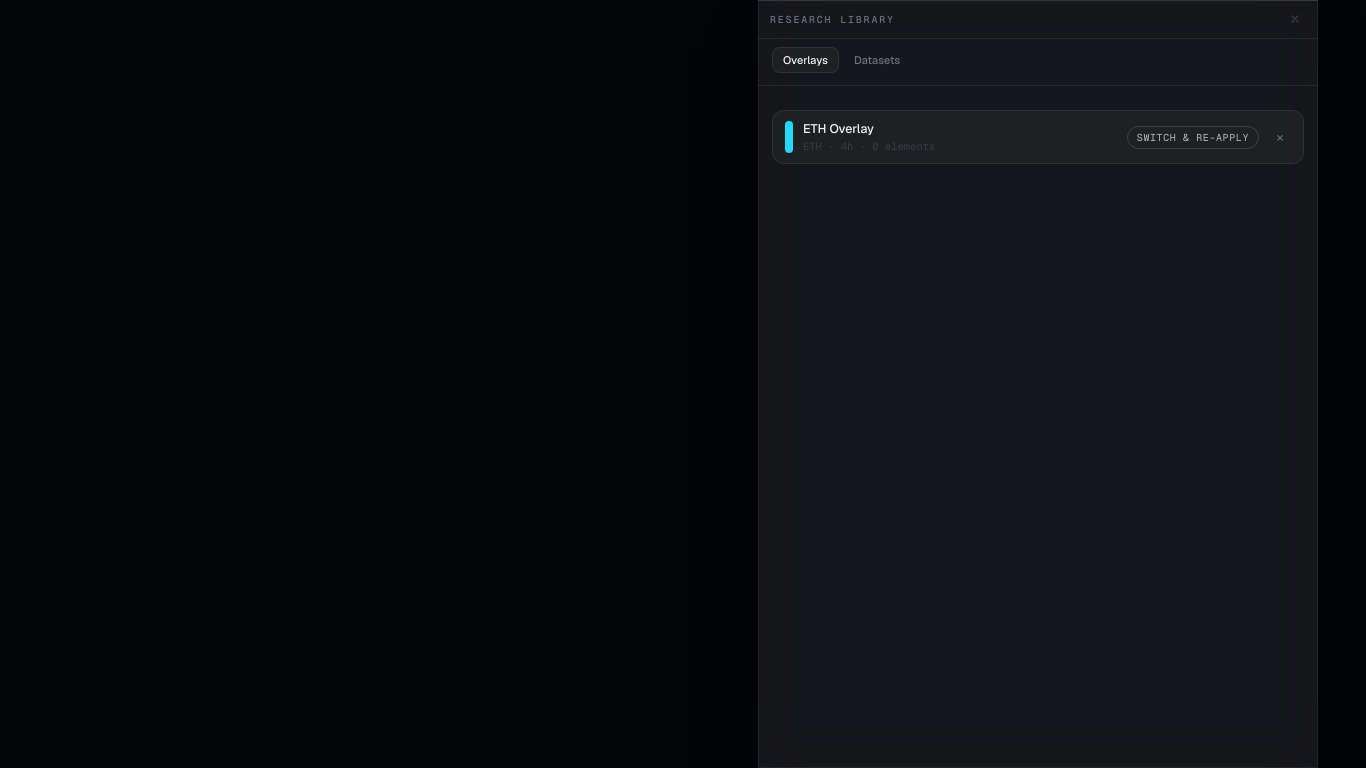
ResearchLibrary › c. Applied flash › c3. Switch & re-apply puts the overlay on-chart (shows "on chart" label)
The image size is (1366, 768).
Click the button "Switch & re-apply": x=1193, y=137 [1127, 126, 1259, 149]
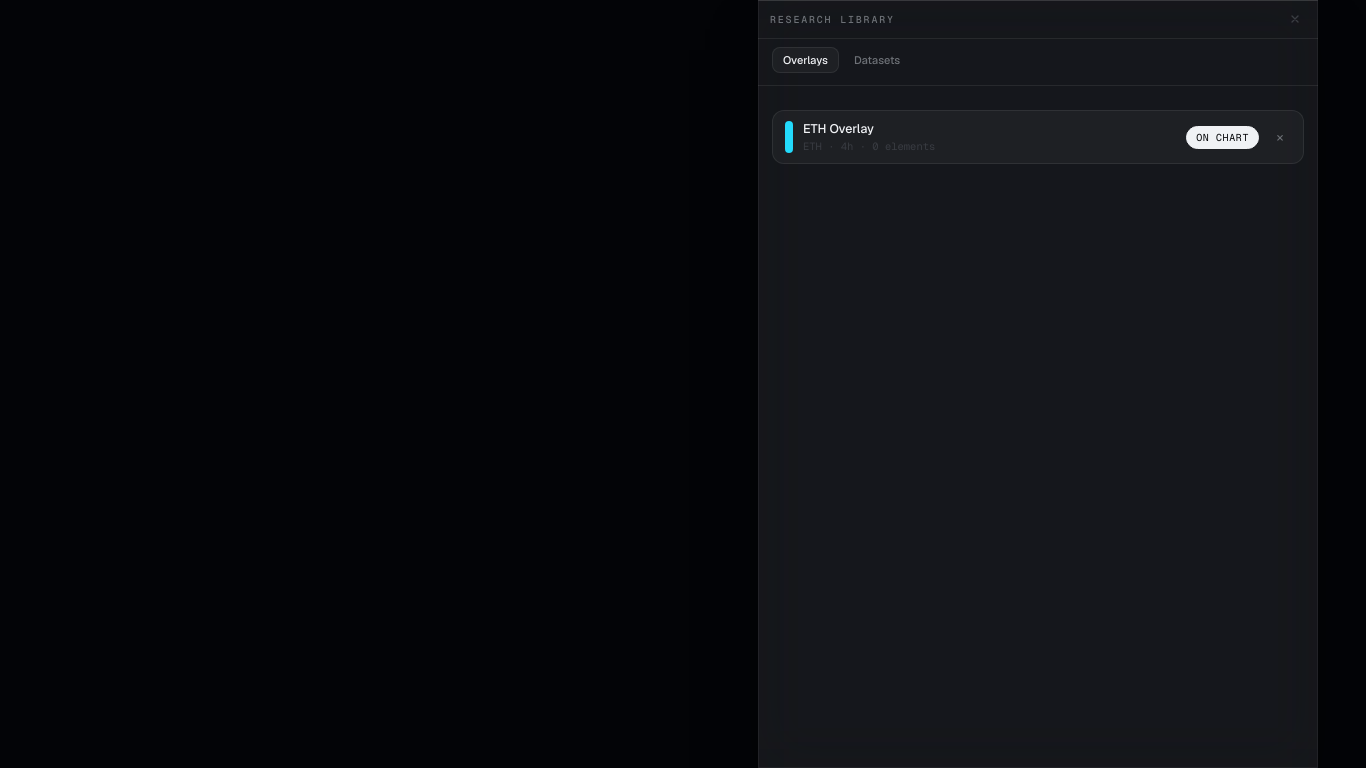
Result: the text "on chart" is shown at [1186, 126, 1259, 149]
